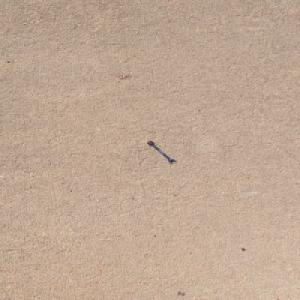Wrench: (146, 140, 176, 164)
